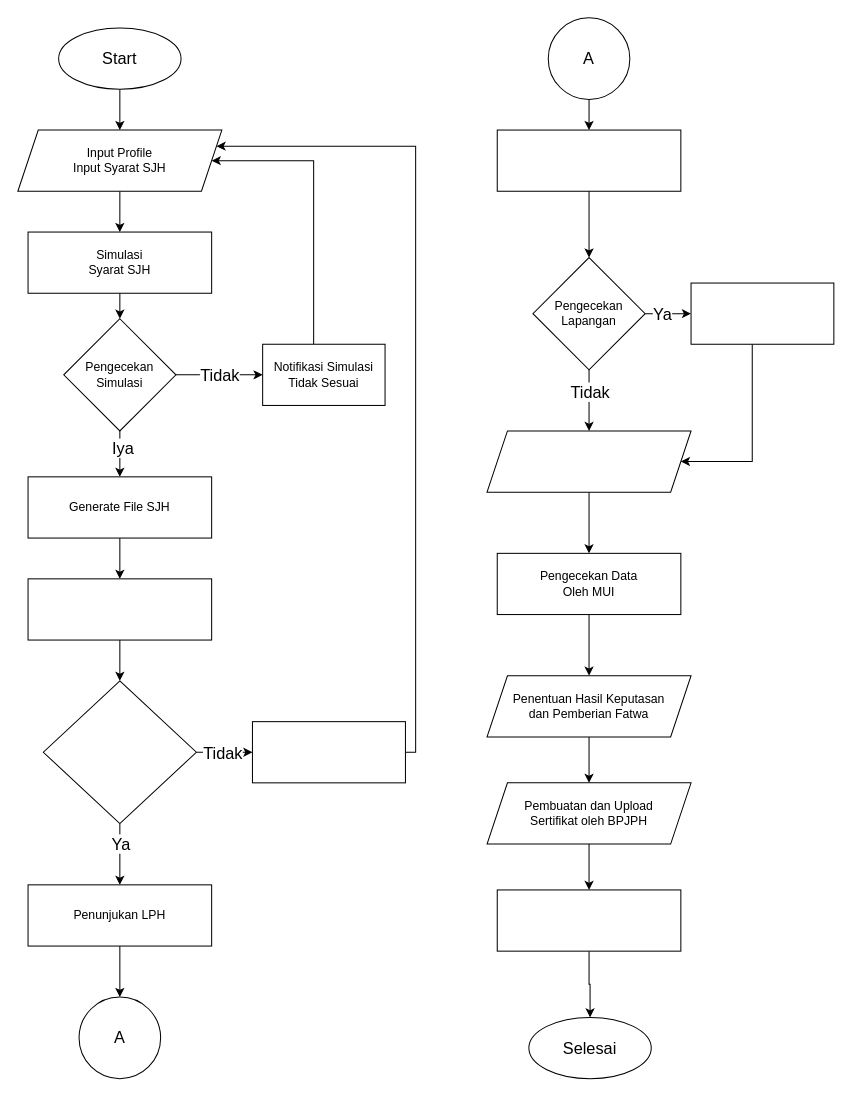
Some shapes in this 852 by 1097 pixel diagram are drawn without their labels. Here are the shapes that lost their labels. From the top down, the centre of each, then its label:
(x=588, y=160): Pengecekan Data Oleh LPH
(x=762, y=313): Penelusuran ke UMKM
(x=588, y=461): Input Hasil Ke MUI
(x=119, y=609): Pendaftaran Setrifikat Halal
(x=119, y=752): Pengecekan Data Oleh BPJPH
(x=328, y=752): Notifikasi Pendaftaran Tidak Diterima
(x=588, y=920): Generate QR
